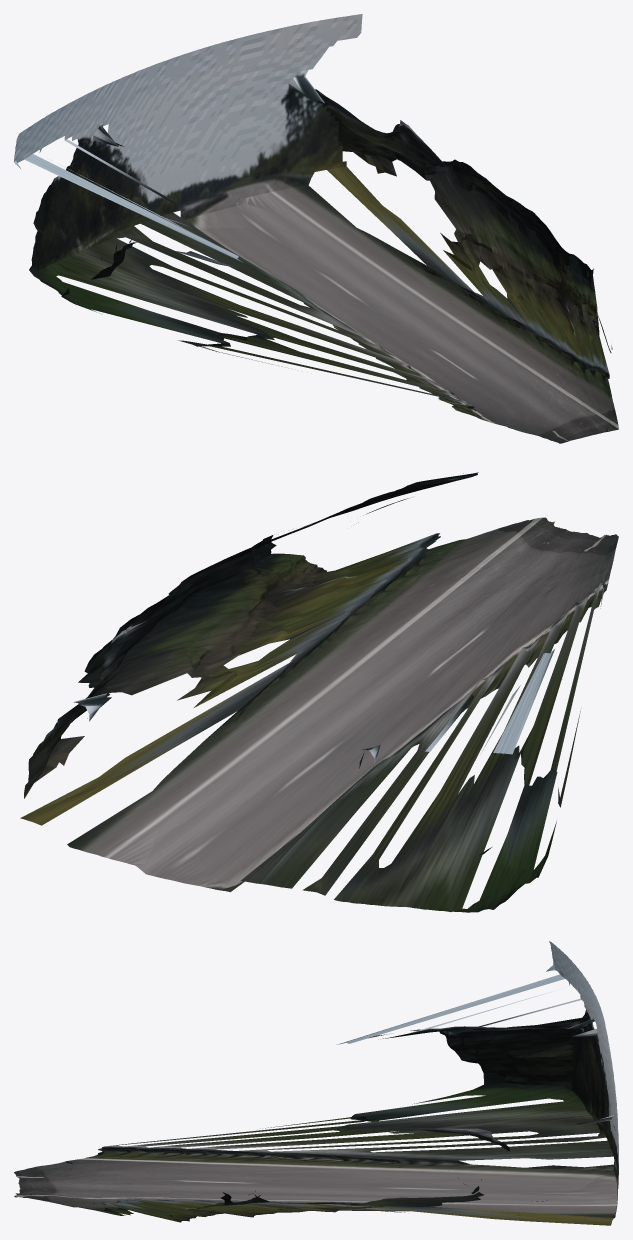
3 views of the same model, one above another, from view 1: azimuth 30°, elevation 25°; view 2: azimuth 150°, elevation 25°; view 3: azimuth 270°, elevation 25° (orthographic). The views are drawn at different scales.
Visible parts, largest first — view 1: defaultobject; view 2: defaultobject; view 3: defaultobject.
Part boxes in pixels (bbox=[...]): defaultobject: bbox=[14, 14, 618, 443]; defaultobject: bbox=[20, 472, 618, 912]; defaultobject: bbox=[14, 941, 618, 1225].
Bounding box in the file's own units: 30.16 × 12.76 × 44.84.
Materials: 1 (1 with a texture image).
